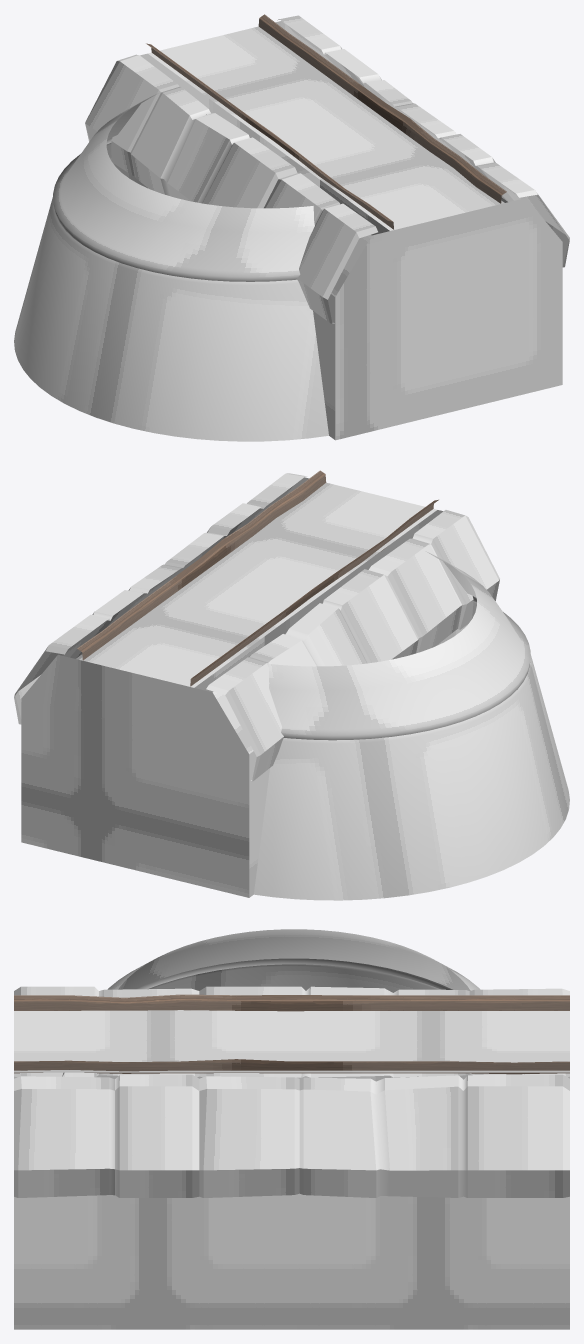
Rendered from SM_Wall_Half_Turret_Bottom.fbx.
3 views of the same model, one above another, from view 1: azimuth 30°, elevation 25°; view 2: azimuth 150°, elevation 25°; view 3: azimuth 270°, elevation 25° (orthographic). The views are drawn at different scales.
Parts seen in each view (by area): view 1: SM_Wall_Half_Turret_Bottom_LOD0; view 2: SM_Wall_Half_Turret_Bottom_LOD0; view 3: SM_Wall_Half_Turret_Bottom_LOD0.
Boxes of the visible parts, box(x1,y1,x2,y2) form: SM_Wall_Half_Turret_Bottom_LOD0: box(14, 14, 569, 441); SM_Wall_Half_Turret_Bottom_LOD0: box(14, 470, 569, 900); SM_Wall_Half_Turret_Bottom_LOD0: box(14, 929, 569, 1329).
Size of the model in its own units: 962 by 1000 by 476.
